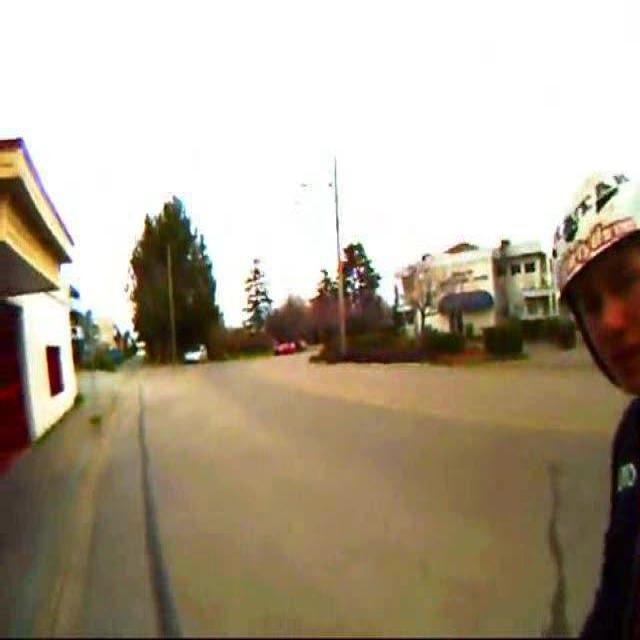other: (78, 217, 130, 308)
